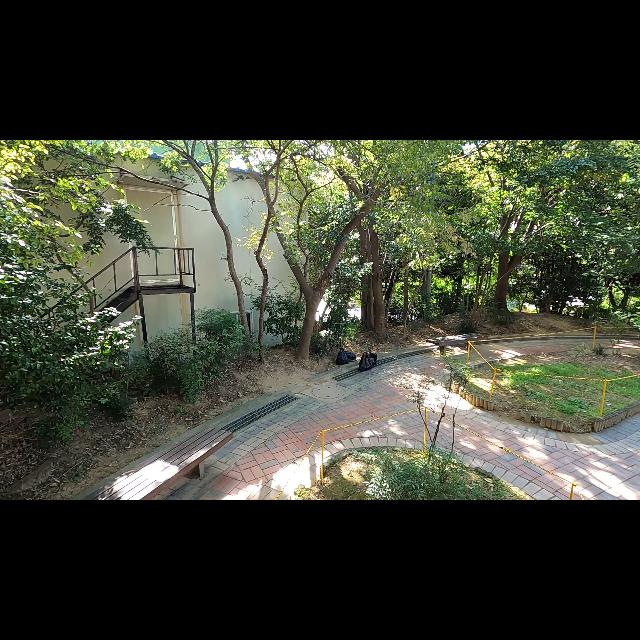trash: (335, 348, 357, 366), (359, 352, 373, 371)
